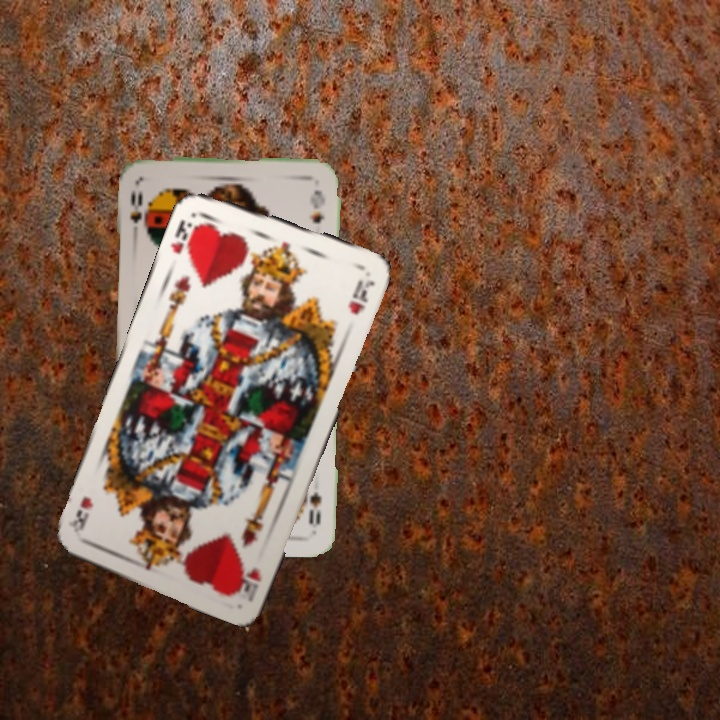HK: (167, 215, 203, 265), (239, 563, 264, 603)
SO: (126, 186, 147, 240), (305, 488, 324, 527)
